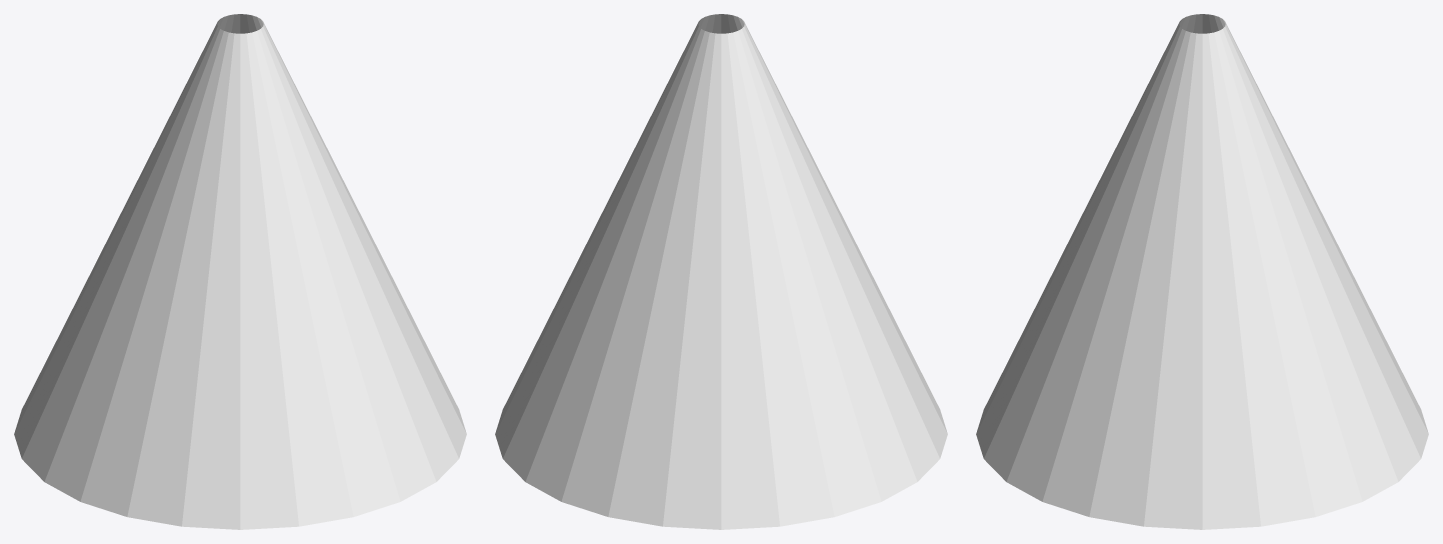
Rendered from Swiatlo.fbx.
The picture shows the model from 3 angles, left to right: view 1: azimuth 30°, elevation 25°; view 2: azimuth 150°, elevation 25°; view 3: azimuth 270°, elevation 25°; orthographic projection.
Parts seen in each view (by area): view 1: Cylinder.011; view 2: Cylinder.011; view 3: Cylinder.011.
Boxes of the visible parts, bbox=[...] form: Cylinder.011: bbox=[14, 14, 466, 529]; Cylinder.011: bbox=[495, 14, 947, 529]; Cylinder.011: bbox=[976, 14, 1428, 529].
Size of the model in its own units: 200 by 200 by 200.
1 material, 1 textured.
